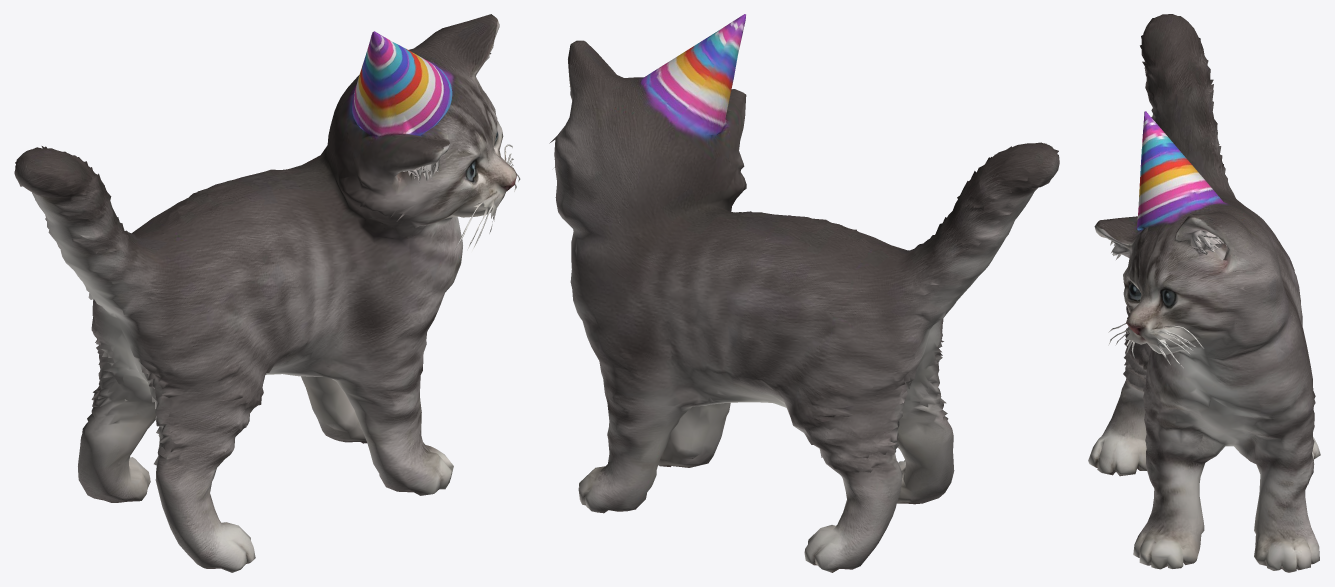
File: UPDATECAT.glb
3 views of the same model, side by side, from view 1: azimuth 30°, elevation 25°; view 2: azimuth 150°, elevation 25°; view 3: azimuth 270°, elevation 25° (orthographic). The views are drawn at different scales.
Parts seen in each view (by area): view 1: tripo_node_9ebf4b14-0554-429b-a1f8-3eeb8d68efc9; view 2: tripo_node_9ebf4b14-0554-429b-a1f8-3eeb8d68efc9; view 3: tripo_node_9ebf4b14-0554-429b-a1f8-3eeb8d68efc9.
Boxes of the visible parts, <box> form: tripo_node_9ebf4b14-0554-429b-a1f8-3eeb8d68efc9: <box>14,14,520,572</box>; tripo_node_9ebf4b14-0554-429b-a1f8-3eeb8d68efc9: <box>549,14,1059,572</box>; tripo_node_9ebf4b14-0554-429b-a1f8-3eeb8d68efc9: <box>1088,14,1320,572</box>.
Size of the model in its own units: 1.12 by 1 by 0.4916.
1 material, 1 textured.
